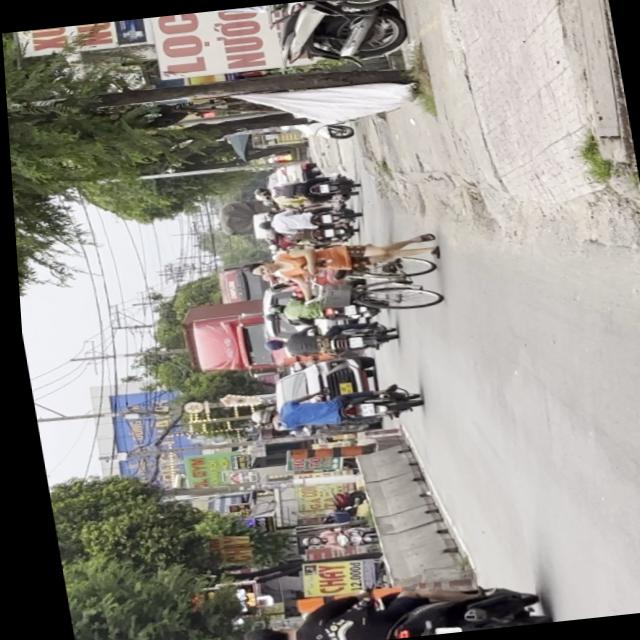licenseplate: (225, 573, 542, 640)
motorcyclist: (234, 623, 287, 640)
